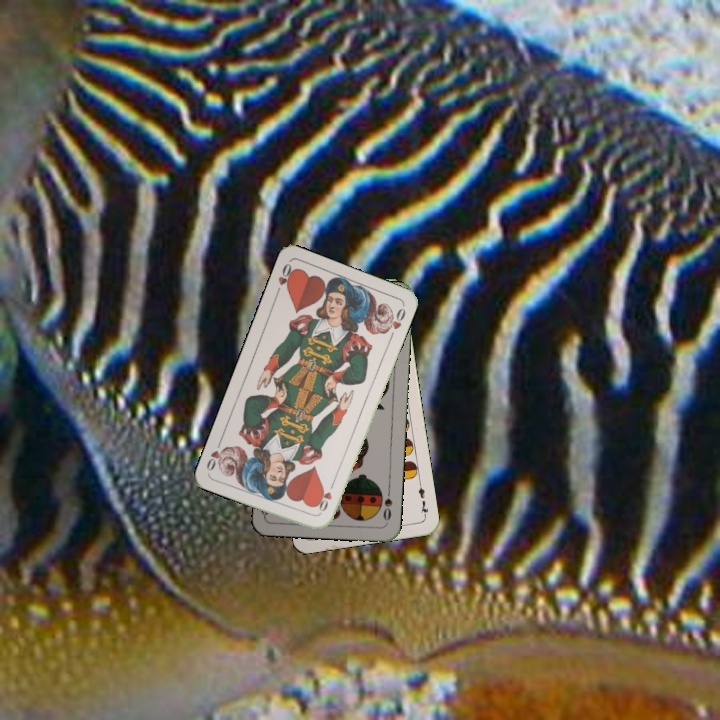E7: (414, 479, 431, 519)
HO: (272, 259, 297, 298), (315, 478, 337, 517)
SO: (379, 485, 395, 523)
